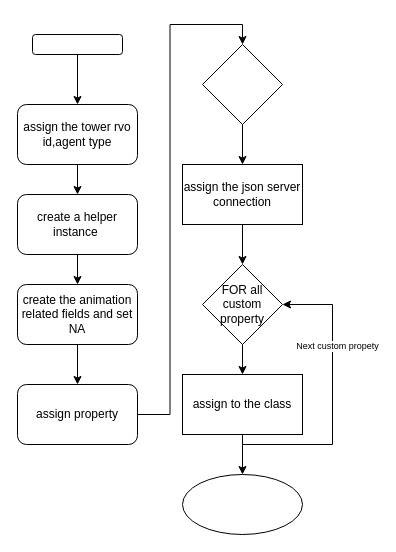
Some shapes in this 396 by 552 pixel diagram are drawn without their labels. The centre of each missing label's shape, as x and y in pixels:
end: the point at 242,504
IF parameter give json server conn: the point at 242,84
start: the point at 77,44
